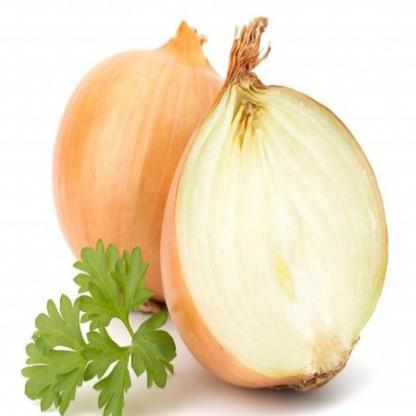onion: (175, 74, 372, 364), (50, 32, 245, 270)
